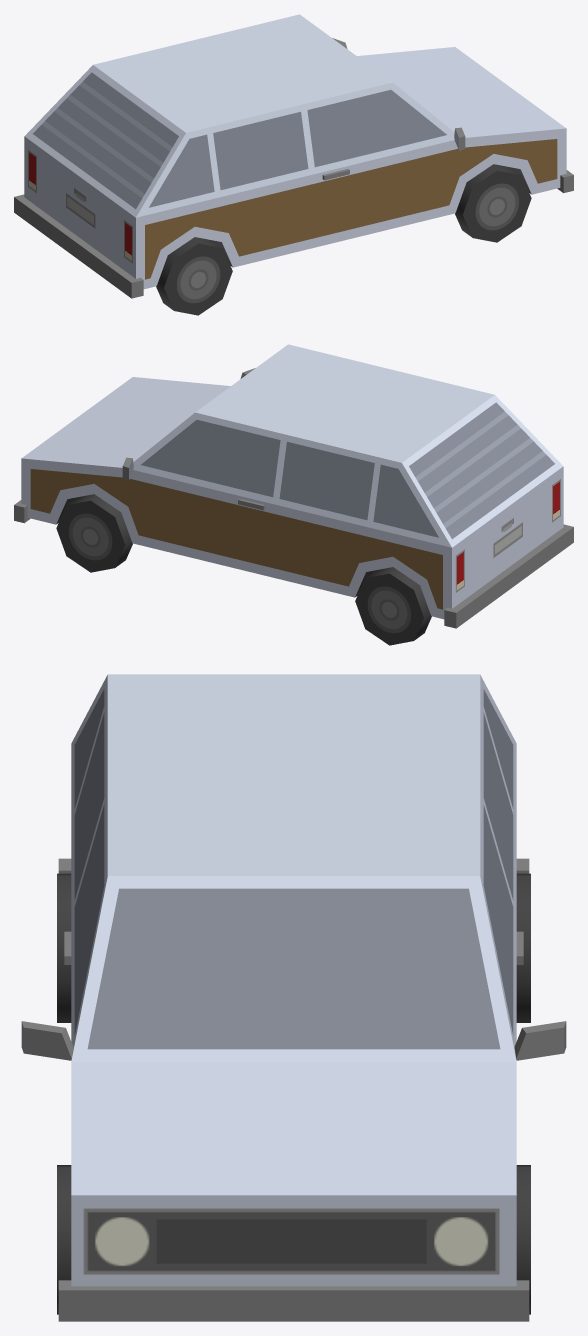
The model's file is west_che05.FBX.
3 views of the same model, one above another, from view 1: azimuth 30°, elevation 25°; view 2: azimuth 150°, elevation 25°; view 3: azimuth 270°, elevation 25° (orthographic). The views are drawn at different scales.
Parts seen in each view (by area): view 1: west_che05; view 2: west_che05; view 3: west_che05.
Part boxes in pixels (box(x1,y1,x2,y2)): west_che05: box(14, 14, 573, 315); west_che05: box(14, 344, 573, 645); west_che05: box(21, 674, 566, 1321).
Size of the model in its own units: 1042 by 390 by 556.
